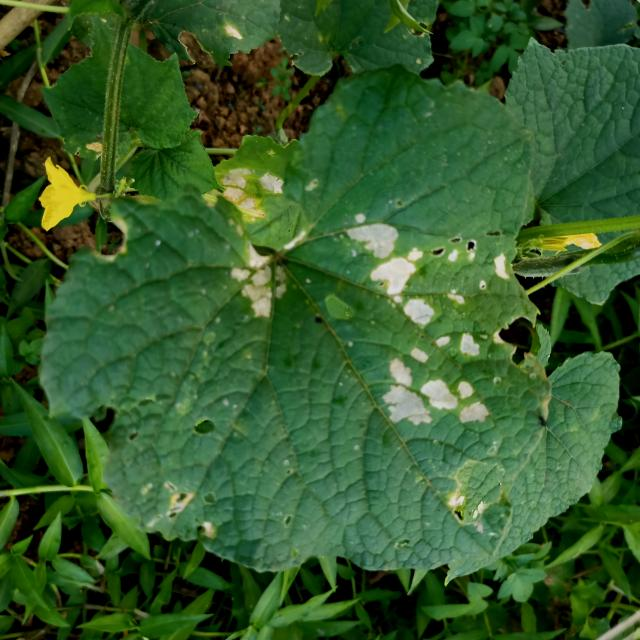disease_cucumber: (340, 208, 520, 330), (367, 330, 502, 451), (220, 231, 299, 324)
